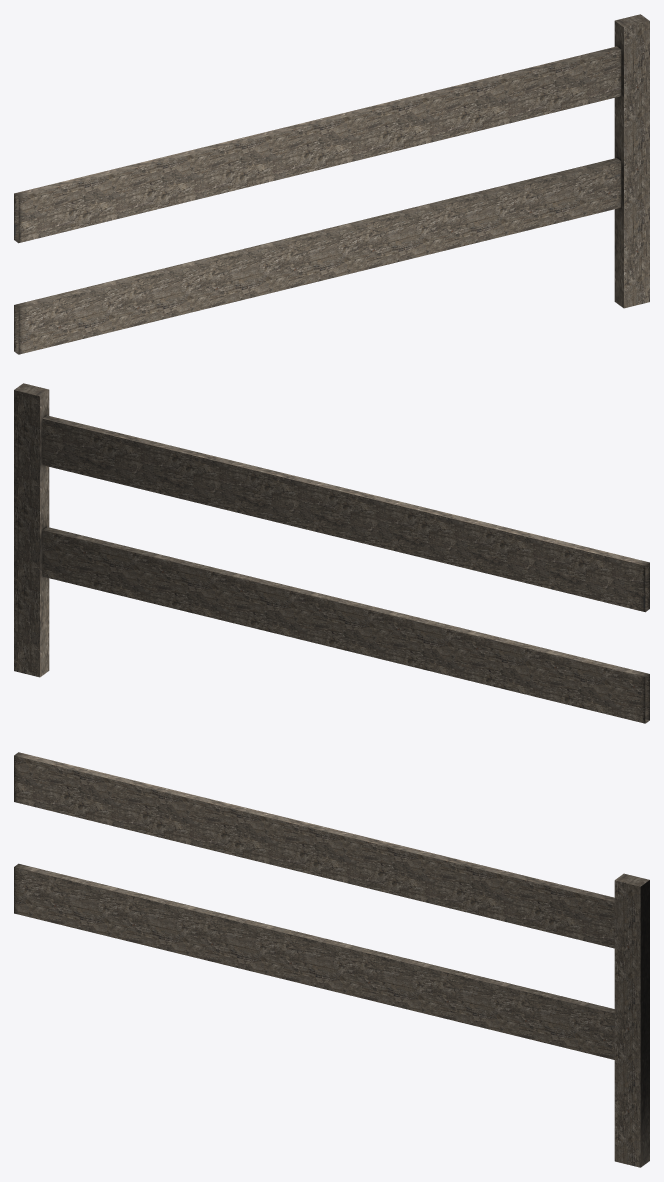
Rendered from SM_FencePartial.FBX.
3 renders of one model, top to bottom at view 1: azimuth 30°, elevation 25°; view 2: azimuth 150°, elevation 25°; view 3: azimuth 330°, elevation 25°, orthographic.
Parts seen in each view (by area): view 1: WoodFence; view 2: WoodFence; view 3: WoodFence.
Boxes of the visible parts, box(x1,y1,x2,y2) form: WoodFence: box(14, 14, 649, 354); WoodFence: box(14, 383, 649, 723); WoodFence: box(14, 752, 649, 1167).
Size of the model in its own units: 150 by 3.86 by 64.
